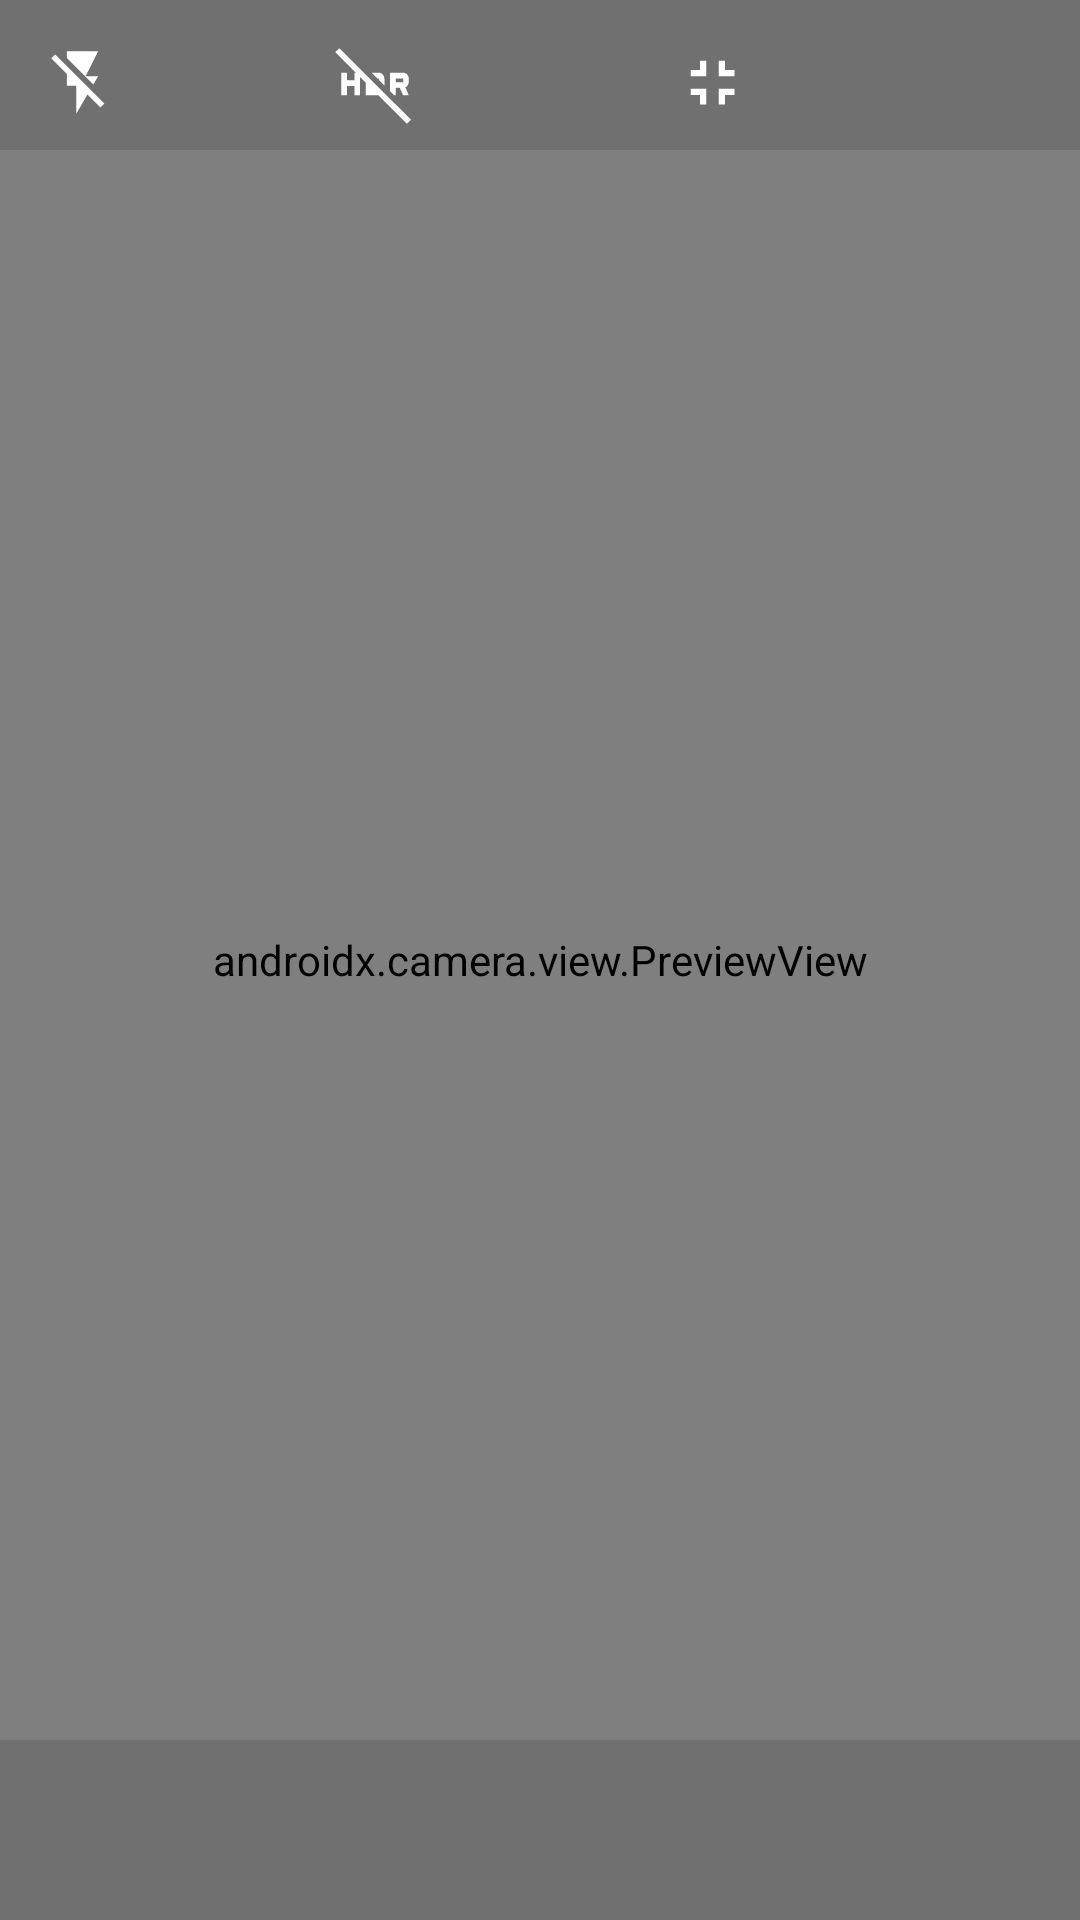

Named icons in this screenshot (1080 x 1920) and their bounding boxes, (x1, y1, x2, y2):
flash off: (51, 51, 104, 113)
fullscreen exit: (690, 60, 735, 105)
hdr off: (335, 48, 411, 124)
